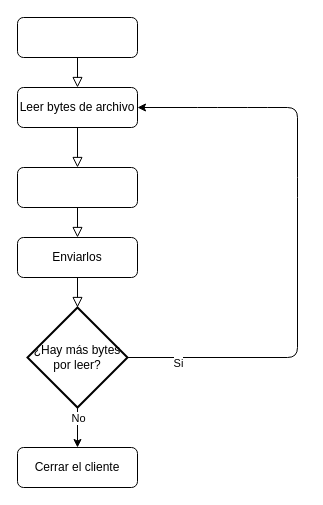
The diagram is 323 pixels wide and 505 high, and some of its shapes have lost their labels. Here are the shapes that lost their labels. From the top down, the centre of each, then its label:
(x=77, y=37): Levantar el client
(x=77, y=187): Encriptar bytes
